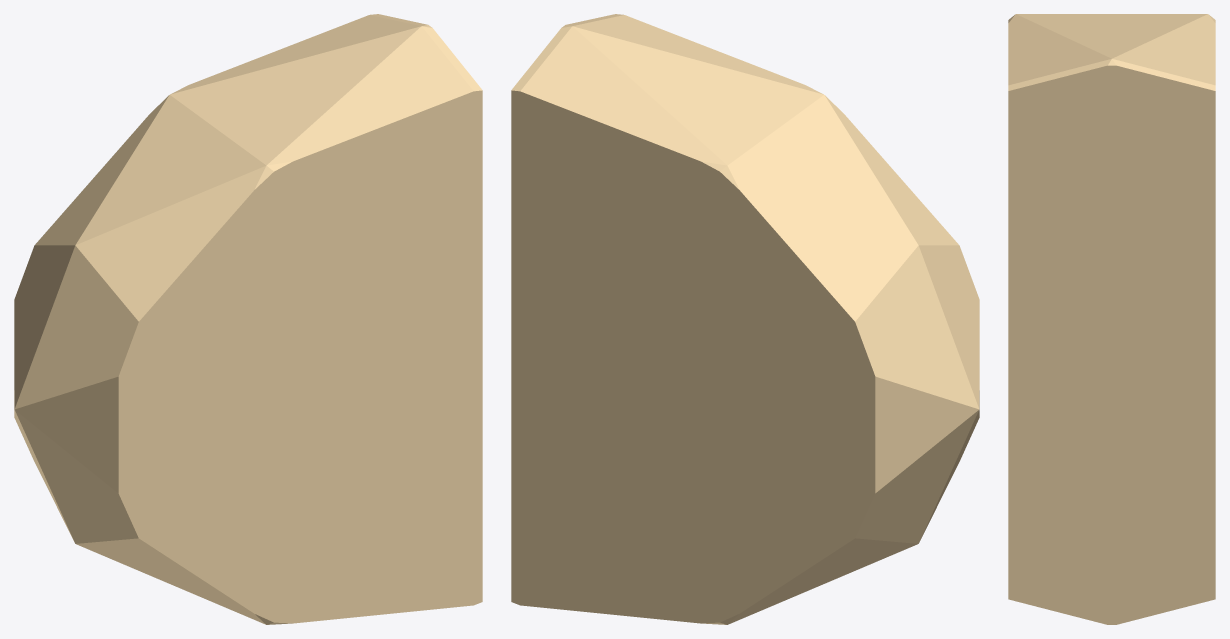
The model's file is nil_link_mesh.dae.
3 renders of one model, left to right at view 1: azimuth 30°, elevation 25°; view 2: azimuth 150°, elevation 25°; view 3: azimuth 270°, elevation 25°, orthographic.
Visible parts, largest first — view 1: nil_link; view 2: nil_link; view 3: nil_link.
Boxes of the visible parts, box(x1,y1,x2,y2) form: nil_link: box(14, 14, 482, 624); nil_link: box(511, 14, 979, 624); nil_link: box(1008, 14, 1215, 624).
Size of the model in its own units: 0.046 by 0.06 by 0.02.
